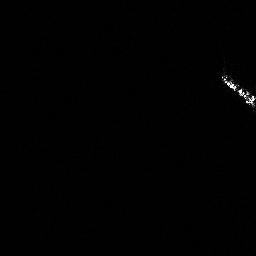ship: (221, 75, 256, 106)
